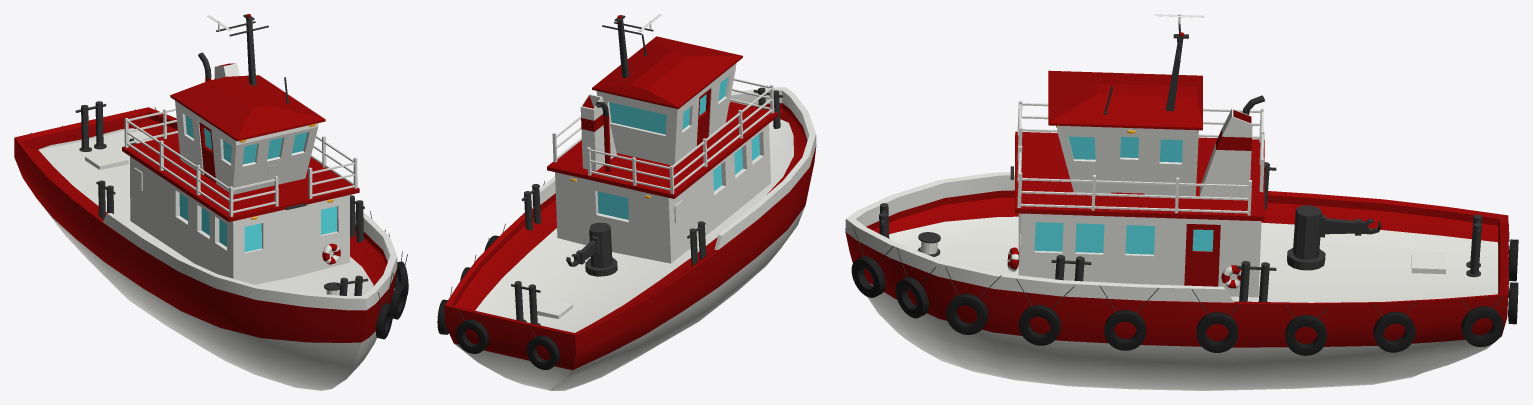
The model's file is Boat.obj.
3 renders of one model, left to right at view 1: azimuth 30°, elevation 25°; view 2: azimuth 150°, elevation 25°; view 3: azimuth 270°, elevation 25°, orthographic. The views are drawn at different scales.
Visible parts, largest first — view 1: polySurface247; view 2: polySurface247; view 3: polySurface247.
Part boxes in pixels (x1,y1,x2,y2): polySurface247: [14, 14, 408, 390]; polySurface247: [437, 14, 816, 390]; polySurface247: [845, 14, 1518, 390].
Bounding box in the file's own units: 30.55 × 45.28 × 74.68.
